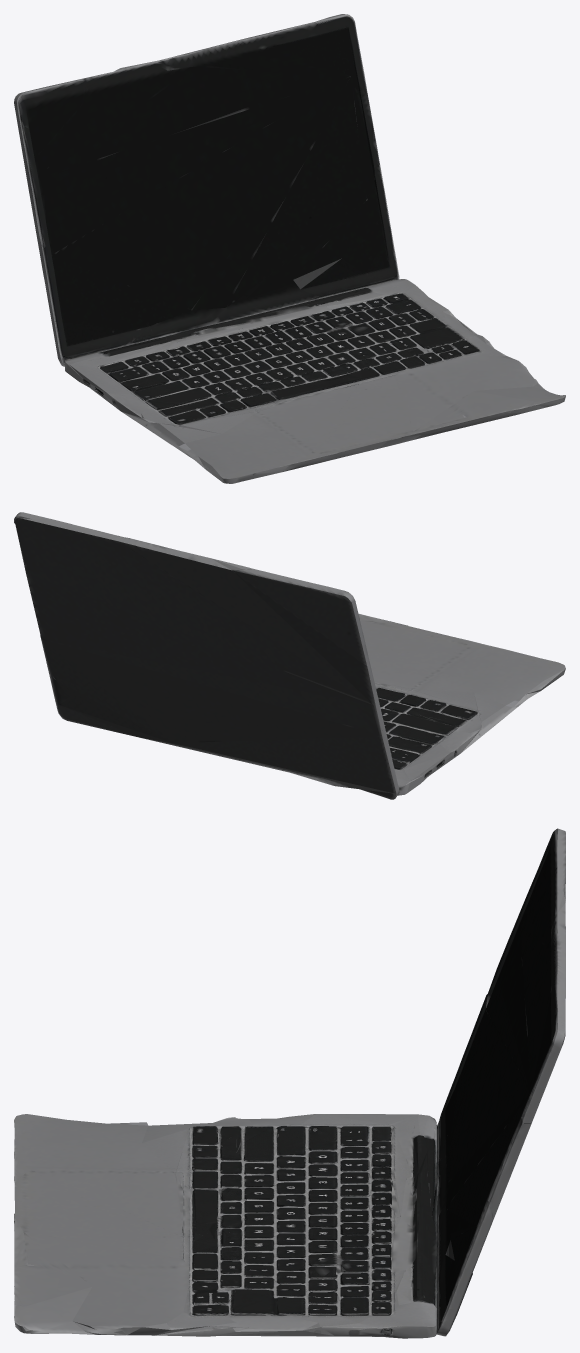
File: remeshed-laptop.glb
3 views of the same model, one above another, from view 1: azimuth 30°, elevation 25°; view 2: azimuth 150°, elevation 25°; view 3: azimuth 270°, elevation 25° (orthographic). The views are drawn at different scales.
Parts seen in each view (by area): view 1: output_unwrapped; view 2: output_unwrapped; view 3: output_unwrapped.
Boxes of the visible parts, x1,y1,x2,y2 form: output_unwrapped: [14, 14, 565, 483]; output_unwrapped: [14, 512, 565, 799]; output_unwrapped: [14, 828, 565, 1338].
Bounding box in the file's own units: 1.73 × 1.17 × 1.9.
1 material, 1 textured.
